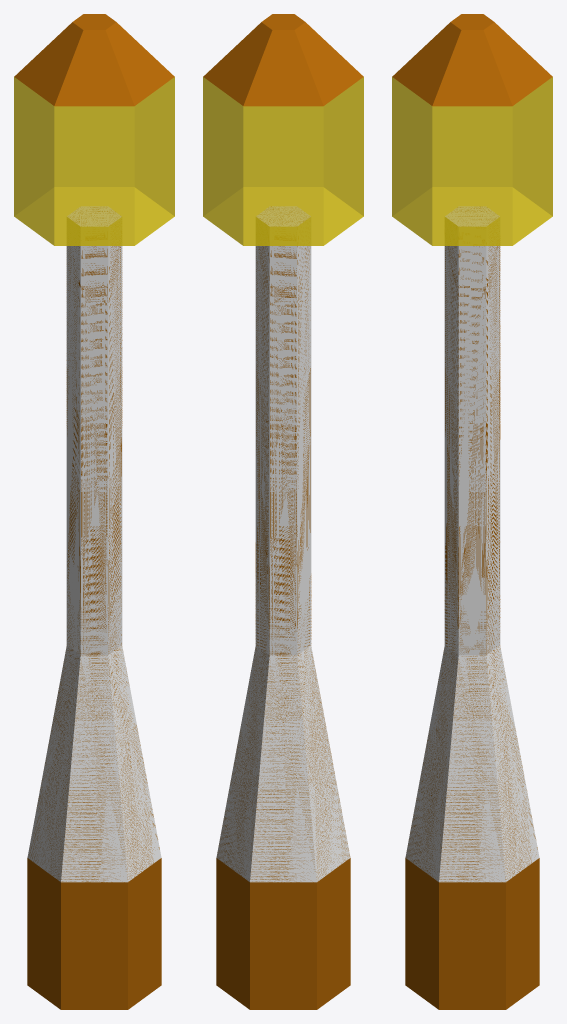
Rendered from street_lamp.dae.
3 views of the same model, side by side, from view 1: azimuth 30°, elevation 25°; view 2: azimuth 150°, elevation 25°; view 3: azimuth 270°, elevation 25° (orthographic).
Parts seen in each view (by area): view 1: SketchUp (×3); view 2: SketchUp (×3); view 3: SketchUp (×3).
Part boxes in pixels (x1,y1,x2,y2): SketchUp (×3): (14,14,174,1009); SketchUp (×3): (203,14,363,1009); SketchUp (×3): (392,14,552,1009).
Size of the model in its own units: 16.35 by 18.87 by 125.
